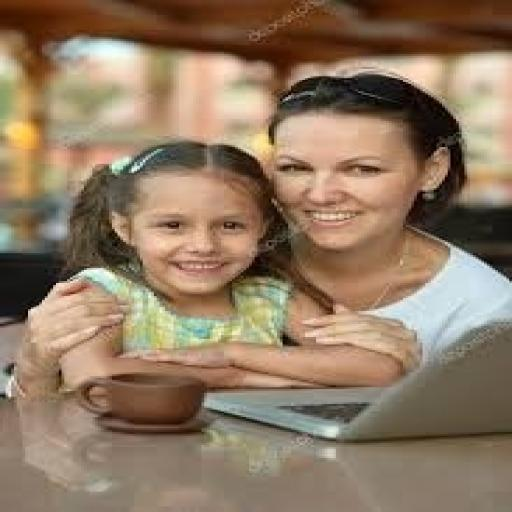using_laptop: (199, 318, 509, 443)
